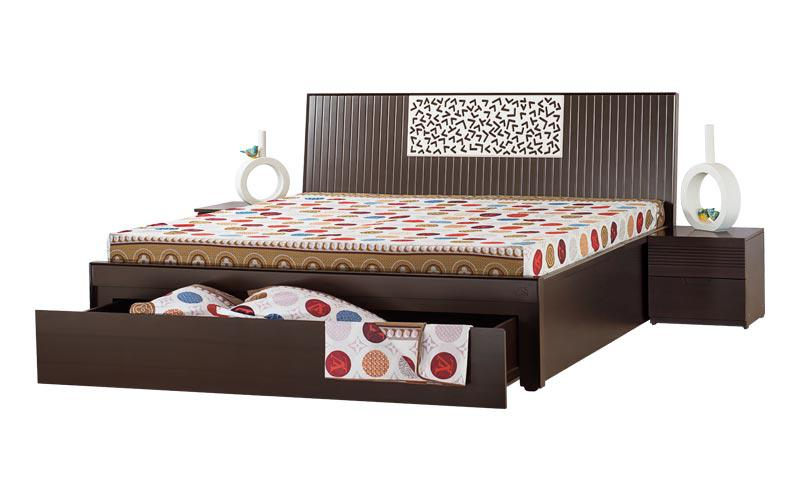bed: (30, 79, 684, 419)
